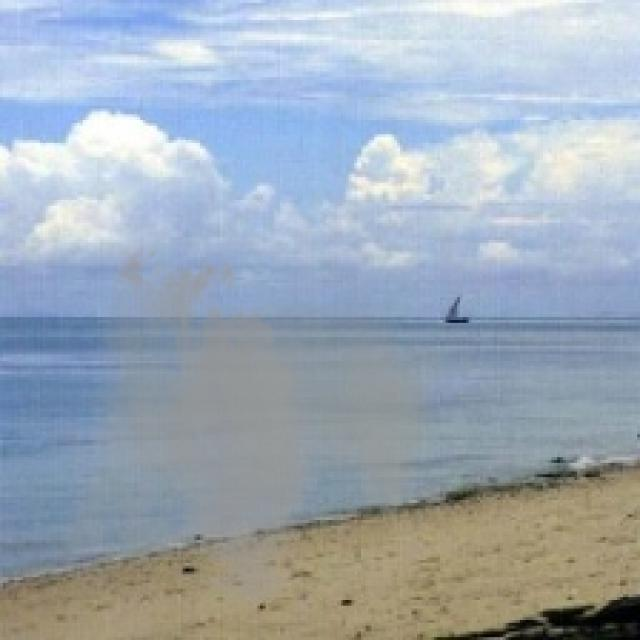smoke: (66, 234, 440, 623)
